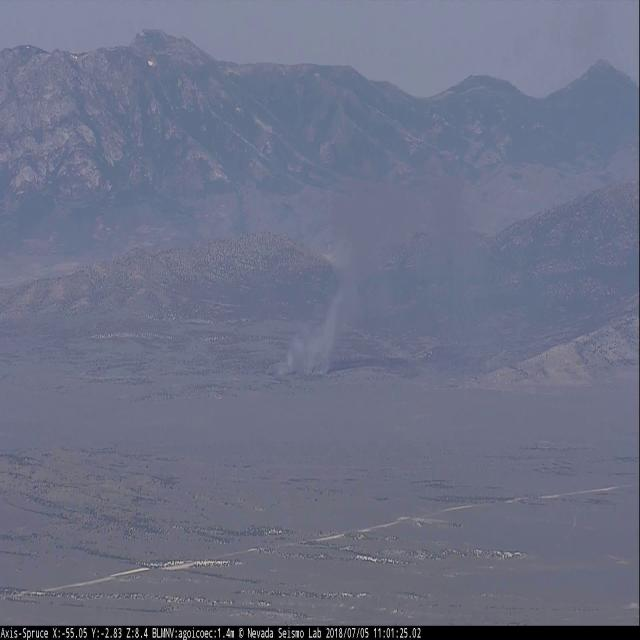smoke: (255, 132, 518, 388)
